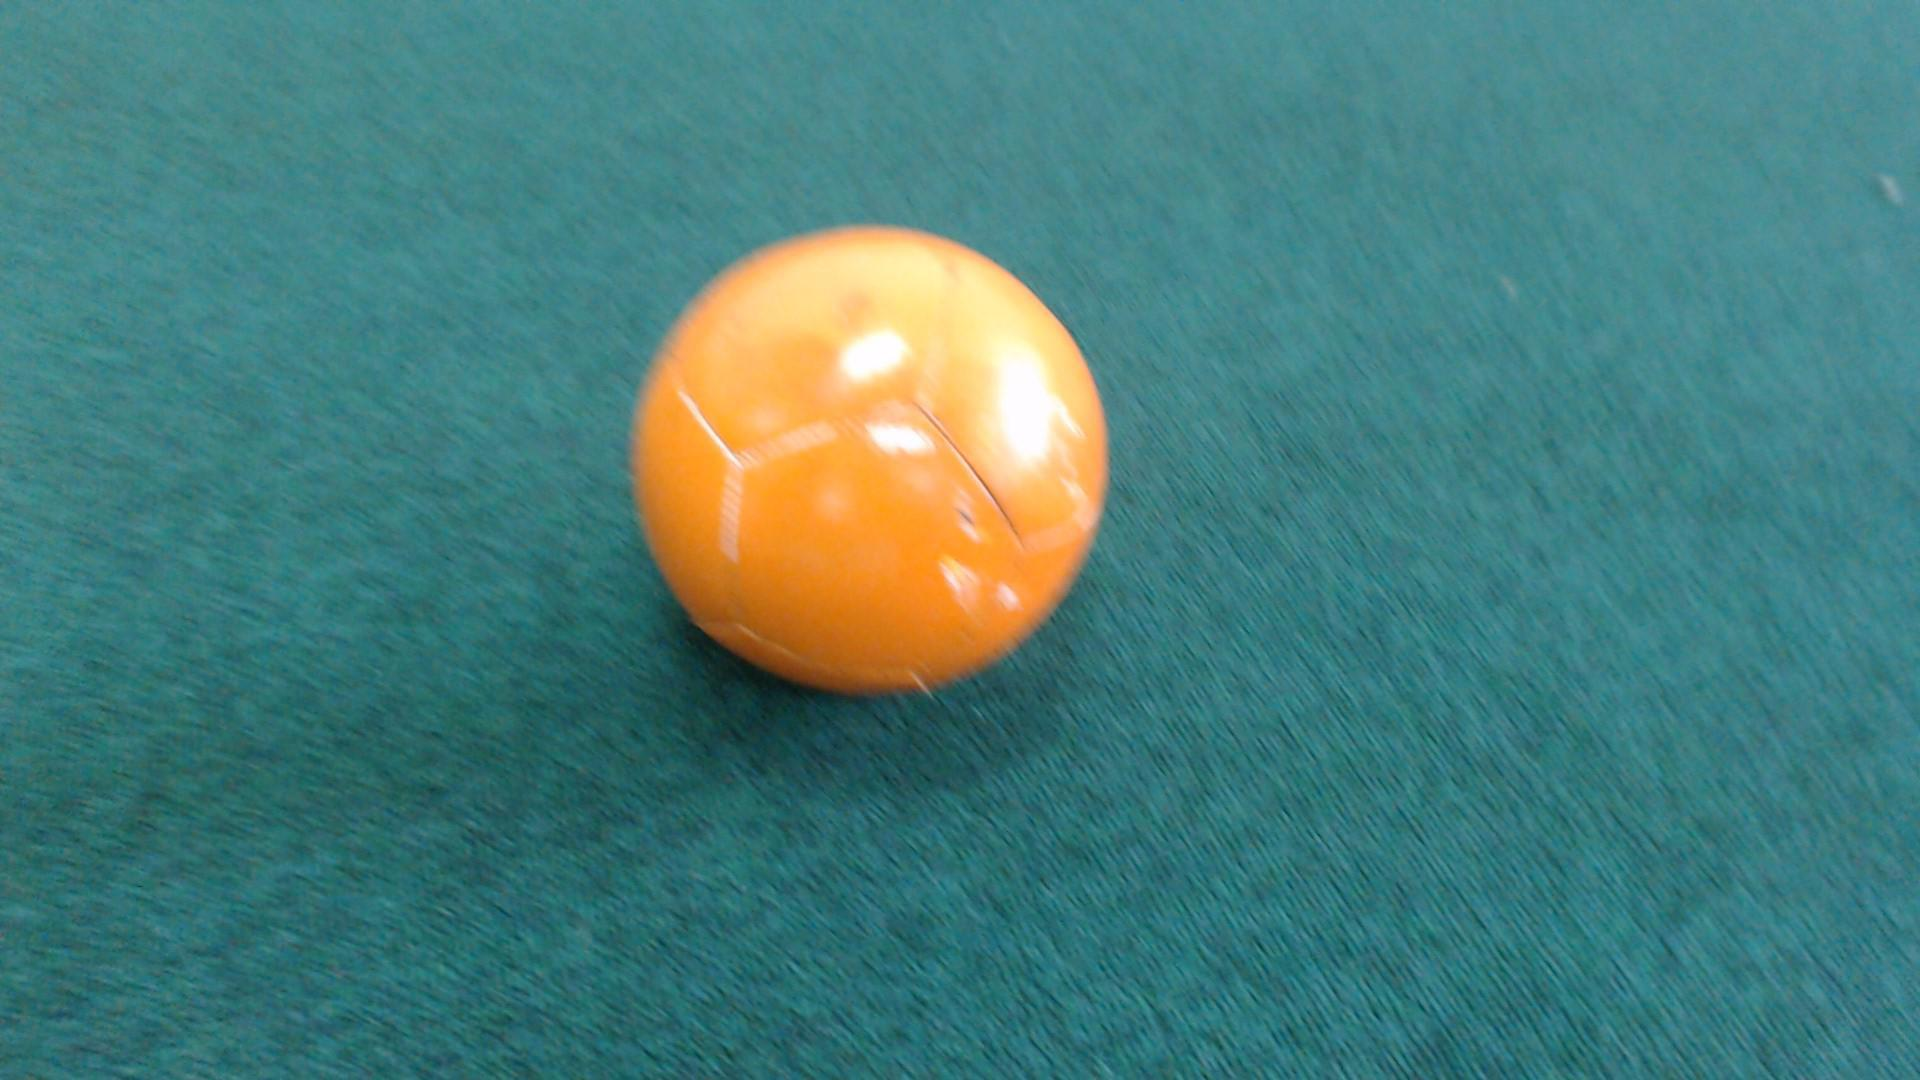bola: (608, 212, 1145, 728)
